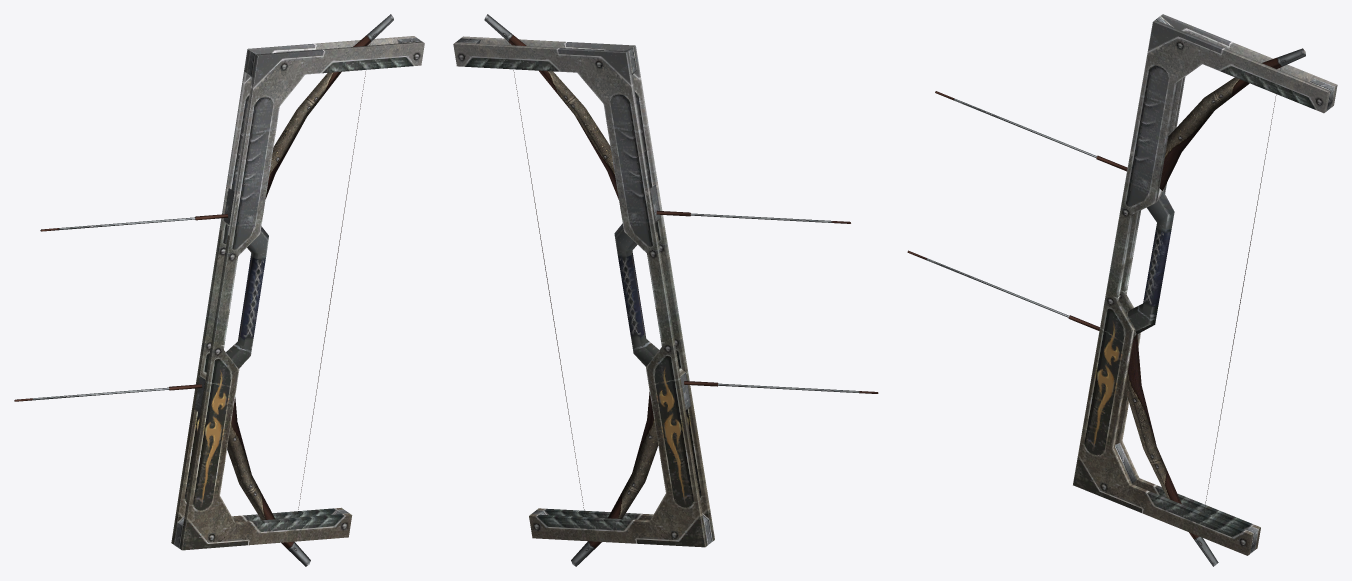
File: rank_kkung_2_M.glb
3 renders of one model, left to right at view 1: azimuth 30°, elevation 25°; view 2: azimuth 150°, elevation 25°; view 3: azimuth 330°, elevation 25°, orthographic.
Parts seen in each view (by area): view 1: weapon; view 2: weapon; view 3: weapon.
Boxes of the visible parts, bbox=[...] form: weapon: bbox=[14, 14, 424, 566]; weapon: bbox=[453, 14, 878, 566]; weapon: bbox=[907, 14, 1337, 566].
Size of the model in its own units: 28.2 by 34.72 by 1.7.
1 material, 1 textured.
